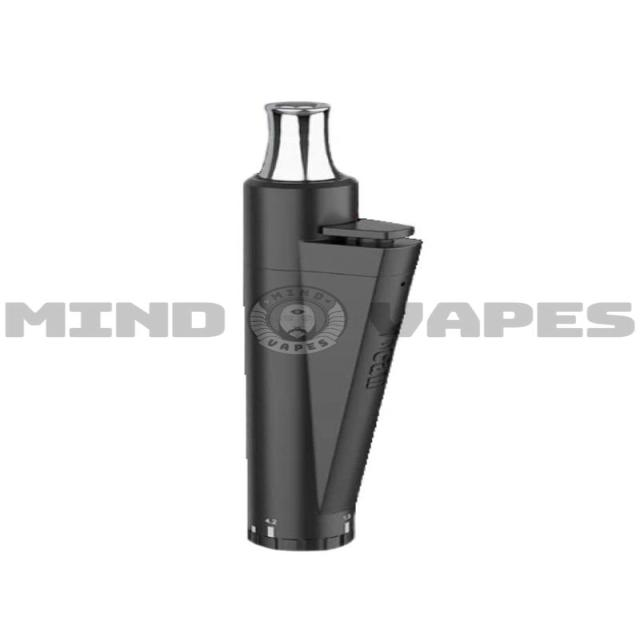Hazard: (240, 100, 423, 552)
